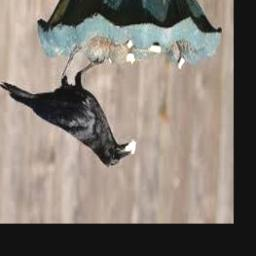Crow: (0, 48, 135, 168)
